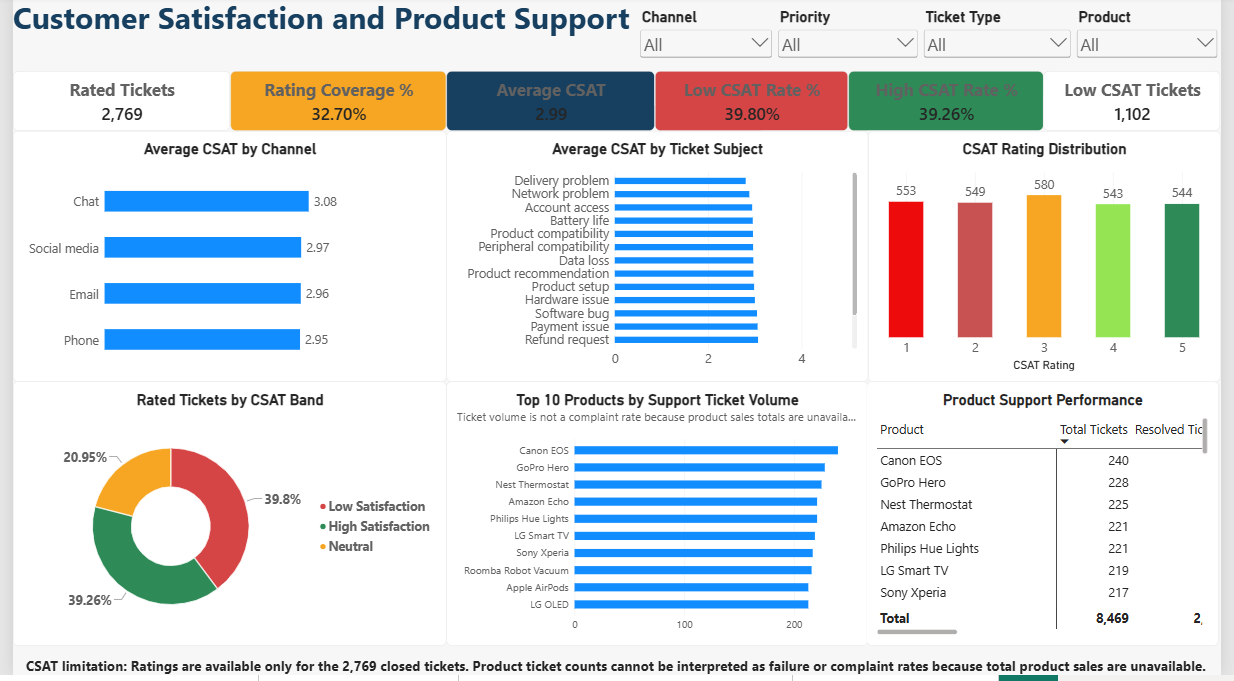

Layout of this report page (visuals, bound fields, positions):
{"tool":"powerbi","page":{"name":"Customer Satisfaction & Products","canvas":[1920,1080],"ordinal":2},"visuals":[{"type":"textbox","box":[0,0,992.5,69.2],"z":0},{"type":"slicer","fields":{"Values":["DimChannel.channel"]},"box":[992.5,19.1,219.5,100.2],"z":1},{"type":"slicer","fields":{"Values":["DimPriority.priority"]},"box":[1212,19.1,231.4,100.2],"z":2},{"type":"slicer","fields":{"Values":["DimTicketType.ticket_type"]},"box":[1443.5,19.1,243.4,100.2],"z":3},{"type":"slicer","fields":{"Values":["DimProduct.product"]},"box":[1686.8,19.1,233.8,100.2],"z":4},{"type":"cardVisual","fields":{"Data":["FactTickets.Average CSAT"]},"box":[689.5,119.3,331.6,95.4],"z":6},{"type":"cardVisual","fields":{"Data":["FactTickets.Low CSAT Rate %"]},"box":[1021.2,119.3,307.8,95.4],"z":7},{"type":"cardVisual","fields":{"Data":["FactTickets.High CSAT Rate %"]},"box":[1329,119.3,310.2,95.4],"z":8},{"type":"cardVisual","fields":{"Data":["FactTickets.Rating Coverage %"]},"box":[346,119.3,343.6,95.4],"z":9},{"type":"cardVisual","fields":{"Data":["FactTickets.Low CSAT Tickets"]},"box":[1639.1,119.3,281.5,95.4],"z":10},{"type":"cardVisual","fields":{"Data":["FactTickets.Rated Tickets"]},"box":[0,119.3,346,95.4],"z":11},{"type":"clusteredColumnChart","title":"CSAT Rating Distribution","fields":{"Category":["FactTickets.csat_rating"],"Y":["FactTickets.Rated Tickets"]},"box":[1360,214.7,560.7,398.4],"z":12},{"type":"donutChart","title":"Rated Tickets by CSAT Band","fields":{"Category":["FactTickets.csat_band"],"Y":["FactTickets.Rated Tickets"]},"box":[0,613.2,689.5,419.9],"z":13},{"type":"clusteredBarChart","title":"Average CSAT by Channel","fields":{"Category":["DimChannel.channel"],"Y":["FactTickets.Average CSAT"]},"box":[0,214.7,689.5,398.4],"z":14},{"type":"clusteredBarChart","title":"Average CSAT by Ticket Subject","fields":{"Category":["DimSubject.subject"],"Y":["FactTickets.Average CSAT"]},"box":[689.5,214.7,670.4,398.4],"z":15},{"type":"clusteredBarChart","title":"Top 10 Products by Support Ticket Volume","fields":{"Category":["DimProduct.product"],"Y":["FactTickets.Total Tickets"]},"box":[689.5,613.2,670.4,419.9],"z":17},{"type":"pivotTable","title":"Product Support Performance","fields":{"Rows":["DimProduct.product"],"Values":["FactTickets.Total Tickets","FactTickets.Resolved Tickets","FactTickets.Resolution Rate %","FactTickets.Rated Tickets","FactTickets.Average CSAT","FactTickets.Average Handling Hours"]},"box":[1357.6,613.2,560,420],"z":18},{"type":"textbox","box":[0,1049.8,1918.3,31],"z":19}]}

Visuals, with their boxes in screenshot pixels (x1, y1, x2, y2), scaled from the page's 1920x1080 canvas onto the 1234x681 screenshot:
textbox: (0,0,638,44)
slicer - DimChannel.channel: (638,12,779,75)
slicer - DimPriority.priority: (779,12,928,75)
slicer - DimTicketType.ticket_type: (928,12,1084,75)
slicer - DimProduct.product: (1084,12,1233,75)
cardVisual - FactTickets.Average CSAT: (443,75,656,135)
cardVisual - FactTickets.Low CSAT Rate %: (656,75,854,135)
cardVisual - FactTickets.High CSAT Rate %: (854,75,1054,135)
cardVisual - FactTickets.Rating Coverage %: (222,75,443,135)
cardVisual - FactTickets.Low CSAT Tickets: (1053,75,1233,135)
cardVisual - FactTickets.Rated Tickets: (0,75,222,135)
"CSAT Rating Distribution" clusteredColumnChart: (874,135,1233,387)
"Rated Tickets by CSAT Band" donutChart: (0,387,443,651)
"Average CSAT by Channel" clusteredBarChart: (0,135,443,387)
"Average CSAT by Ticket Subject" clusteredBarChart: (443,135,874,387)
"Top 10 Products by Support Ticket Volume" clusteredBarChart: (443,387,874,651)
"Product Support Performance" pivotTable: (873,387,1232,651)
textbox: (0,662,1233,680)
